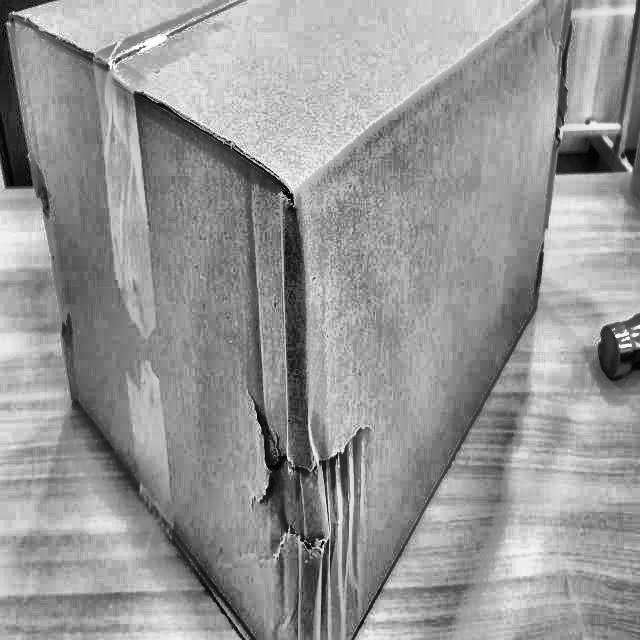box: (0, 0, 585, 639)
hole: (246, 389, 378, 571)
